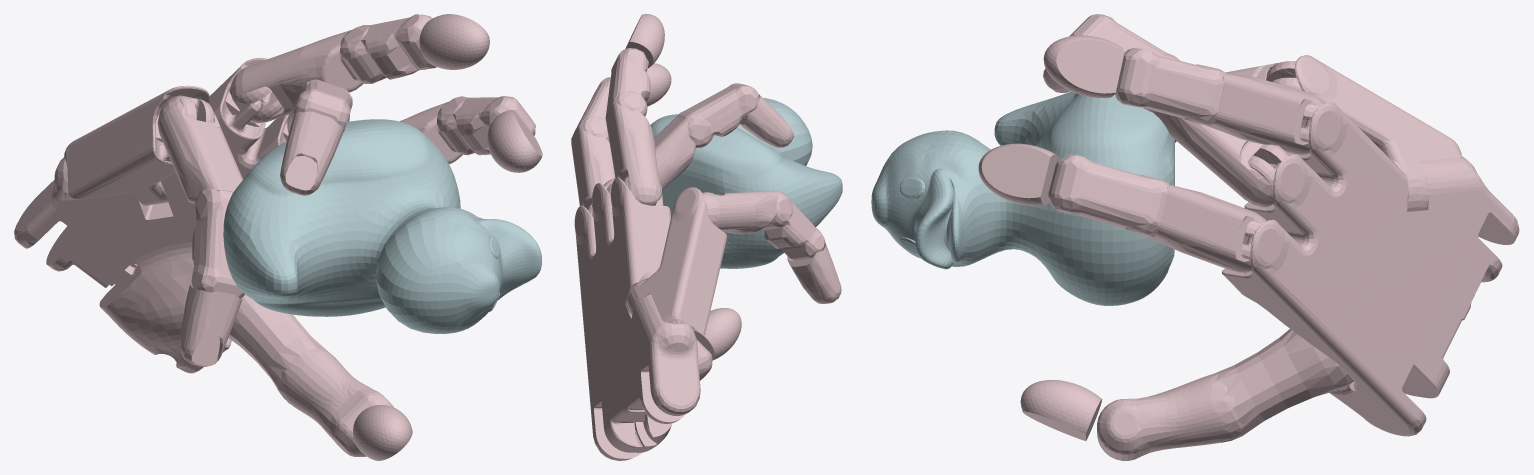
Rendered from grasp_5.glb.
The picture shows the model from 3 angles, left to right: view 1: azimuth 30°, elevation 25°; view 2: azimuth 150°, elevation 25°; view 3: azimuth 270°, elevation 25°; orthographic projection. The views are drawn at different scales.
Parts seen in each view (by area): view 1: world; view 2: world; view 3: world.
Boxes of the visible parts, box(x1,y1,x2,y2) form: world: box(14, 14, 542, 460); world: box(571, 14, 842, 460); world: box(871, 14, 1519, 460).
Size of the model in its own units: 0.13 by 0.1616 by 0.2047.
